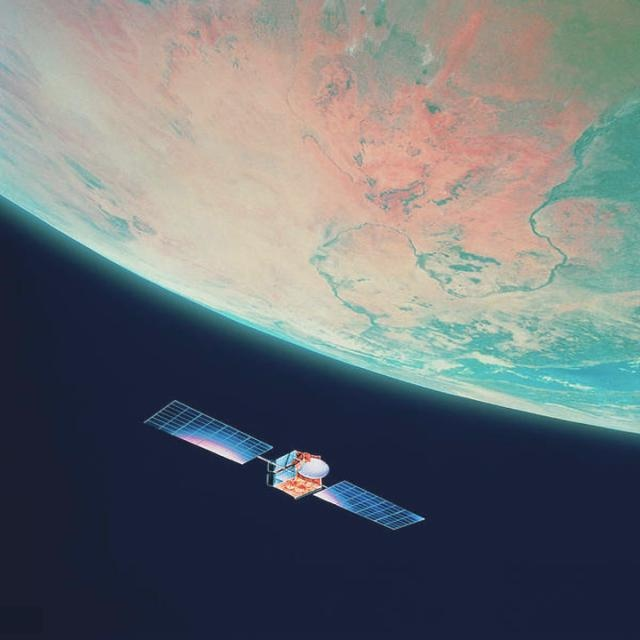medium_debris: (143, 388, 425, 542)
